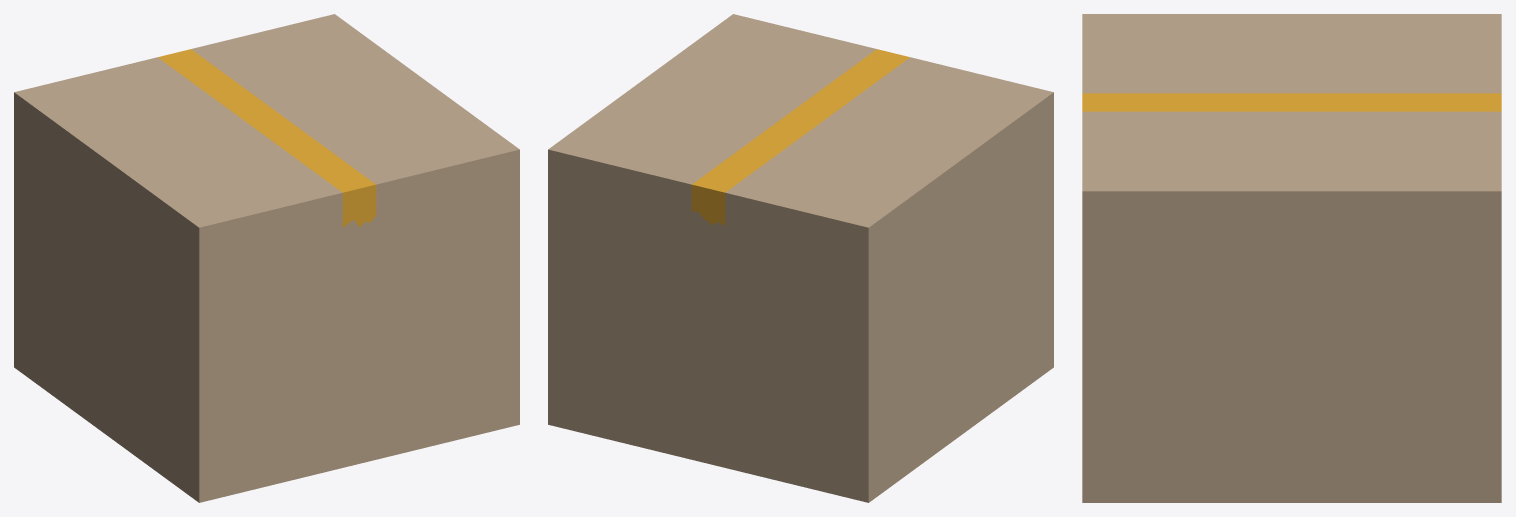
The model's file is PaperBox.fbx.
The picture shows the model from 3 angles, left to right: view 1: azimuth 30°, elevation 25°; view 2: azimuth 150°, elevation 25°; view 3: azimuth 270°, elevation 25°; orthographic projection. The views are drawn at different scales.
Visible parts, largest first — view 1: 큐브; view 2: 큐브; view 3: 큐브.
Boxes of the visible parts, <box> form: 큐브: <box>14,14,519,502</box>; 큐브: <box>548,14,1053,502</box>; 큐브: <box>1082,14,1501,502</box>.
Bounding box in the file's own units: 7 × 5.74 × 7.
